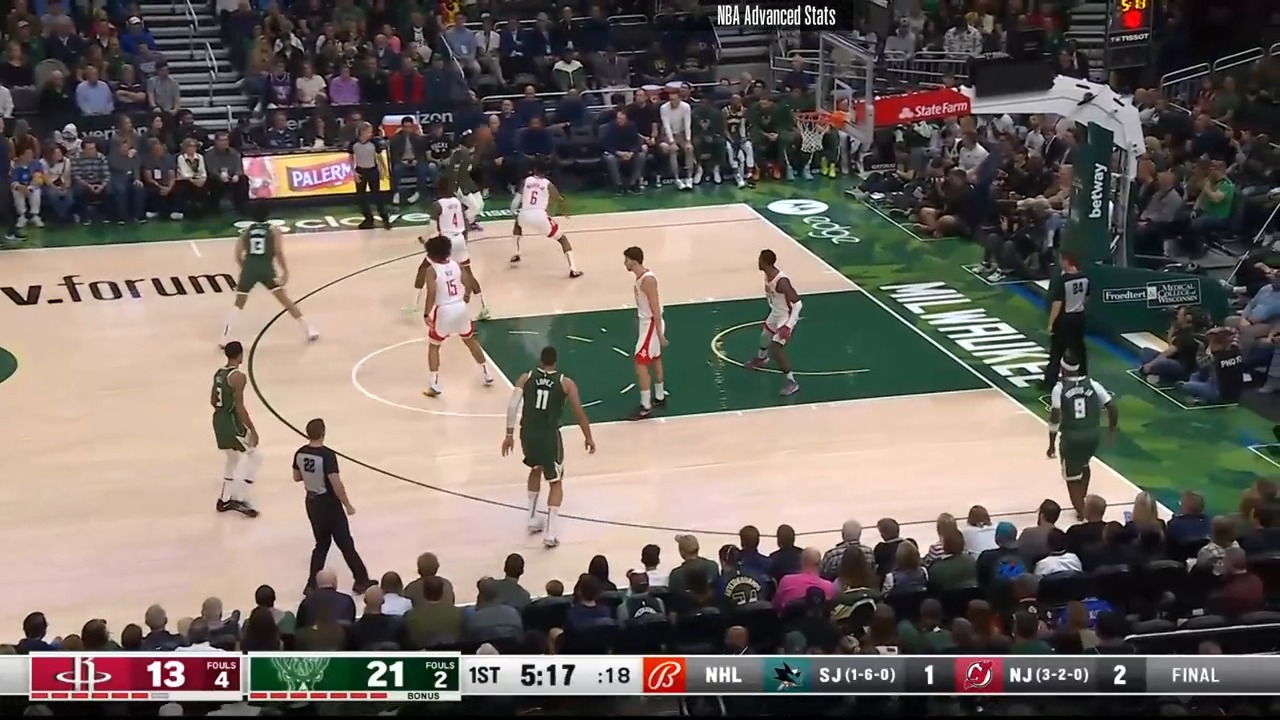net: (792, 106, 850, 154)
player: (505, 340, 598, 549), (220, 197, 323, 344), (410, 232, 498, 401), (207, 336, 278, 522), (1047, 351, 1124, 517), (612, 245, 666, 425), (420, 179, 486, 325), (506, 165, 584, 281), (741, 249, 800, 400), (448, 123, 492, 235)
referee: (280, 419, 372, 598), (1051, 246, 1095, 380), (354, 119, 402, 233)
